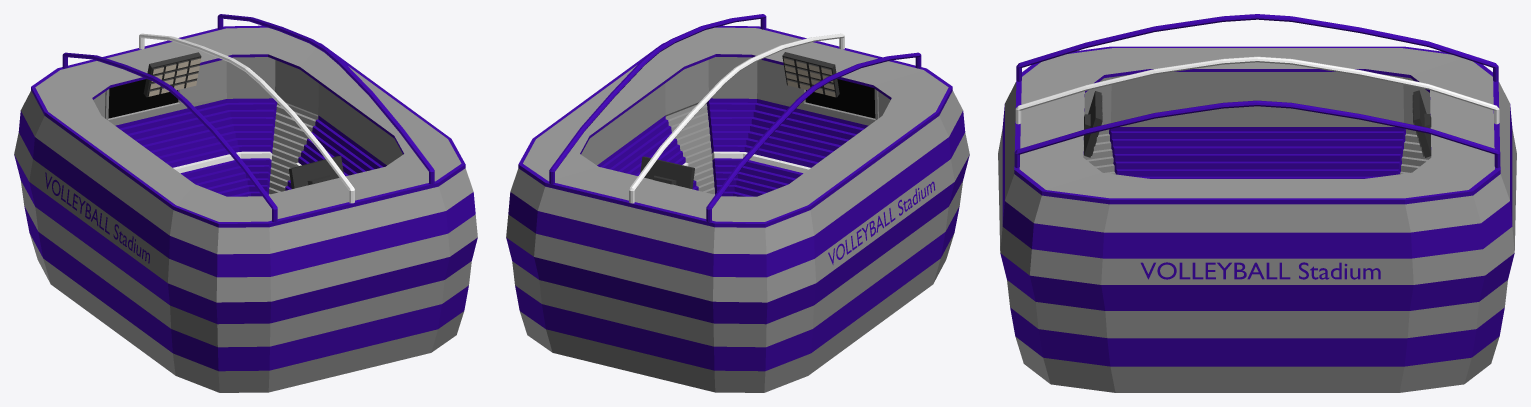
The model's file is stadium.glb.
The picture shows the model from 3 angles, left to right: view 1: azimuth 30°, elevation 25°; view 2: azimuth 150°, elevation 25°; view 3: azimuth 270°, elevation 25°; orthographic projection. The views are drawn at different scales.
Visible parts, largest first — view 1: Volleyball Stadium; view 2: Volleyball Stadium; view 3: Volleyball Stadium.
Part boxes in pixels (<box>): Volleyball Stadium: <box>14,14,477,392</box>; Volleyball Stadium: <box>506,14,969,392</box>; Volleyball Stadium: <box>998,14,1516,392</box>.
Bounding box in the file's own units: 127 × 94.06 × 169.
Materials: 1 (1 with a texture image).
